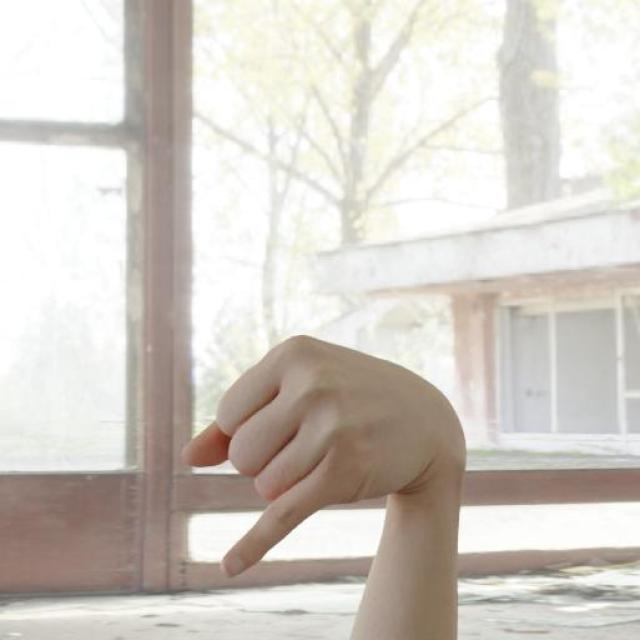J: (152, 310, 495, 624)
